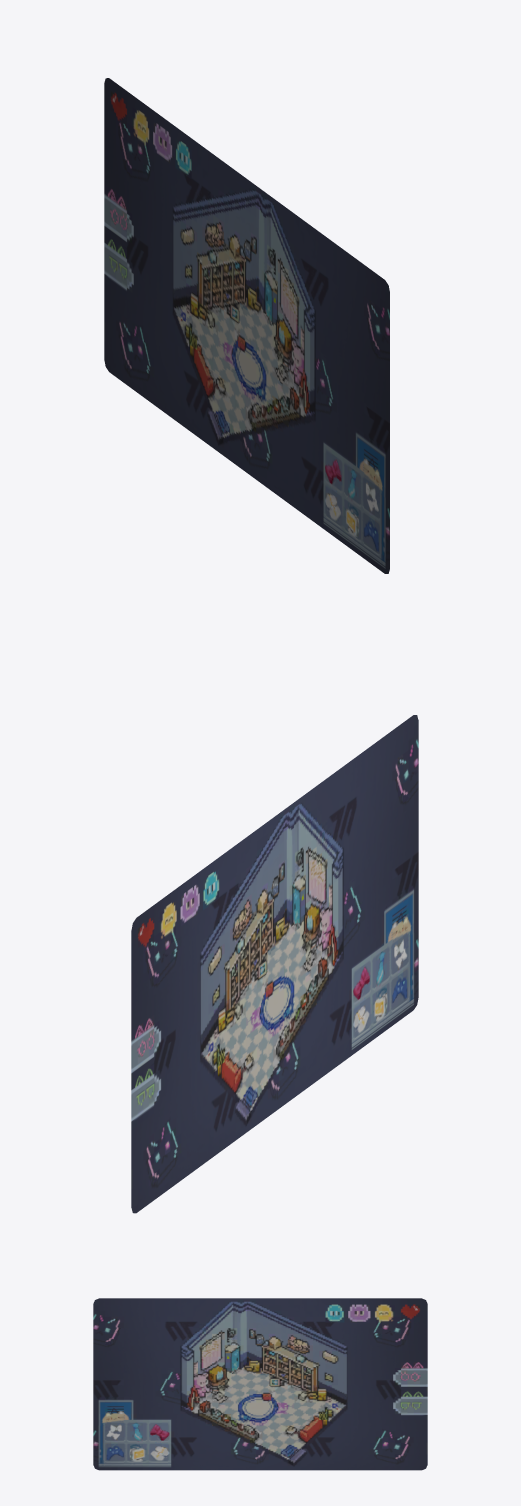
Rendered from my_event089_gameboard.glb.
The picture shows the model from 3 angles, top to bottom: view 1: azimuth 30°, elevation 25°; view 2: azimuth 150°, elevation 25°; view 3: azimuth 270°, elevation 25°; orthographic projection. The views are drawn at different scales.
Visible parts, largest first — view 1: my_event089_gameboard; view 2: my_event089_gameboard; view 3: my_event089_gameboard.
Boxes of the visible parts, x1,y1,x2,y2 form: my_event089_gameboard: (104,78,389,573); my_event089_gameboard: (131,715,418,1213); my_event089_gameboard: (93,1298,427,1470).
Bounding box in the file's own units: 0.0025 × 0.00854 × 0.02.
Materials: 1 (1 with a texture image).
